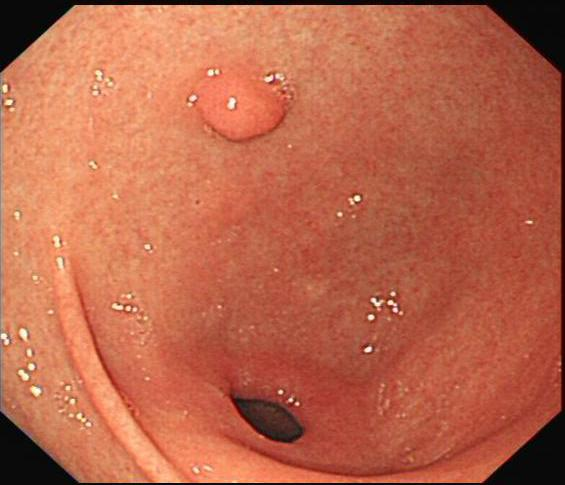Polyp: (183, 68, 302, 153)
